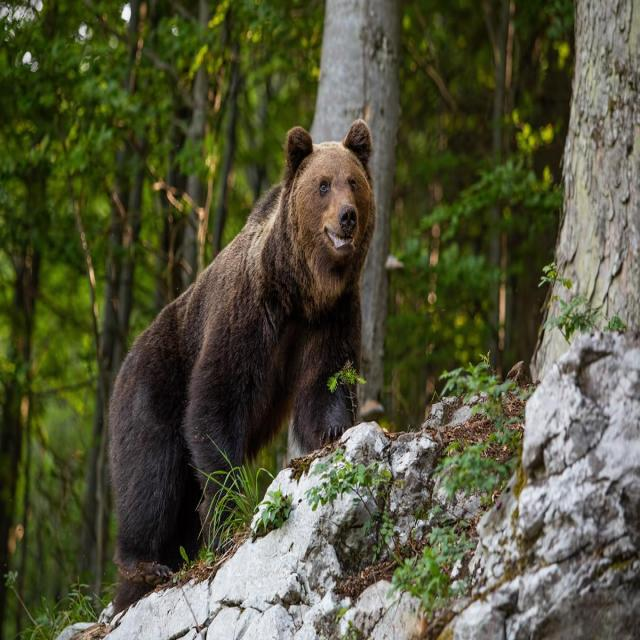Bear: (106, 122, 379, 614)
